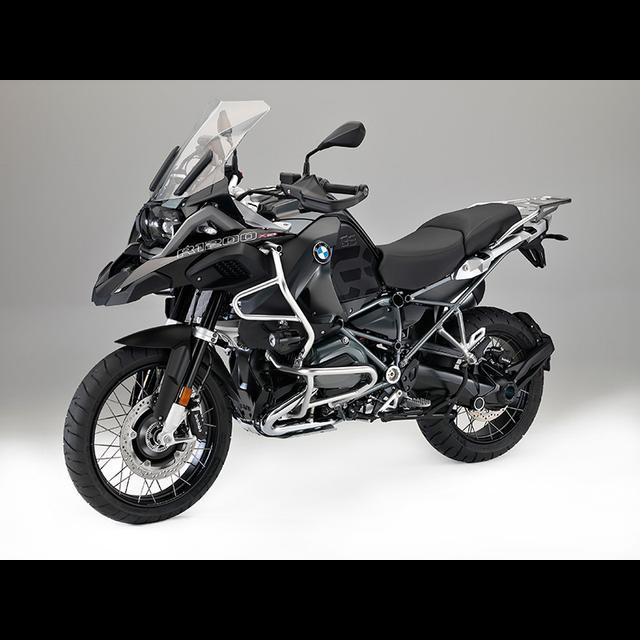motorcycle: (55, 93, 579, 529)
